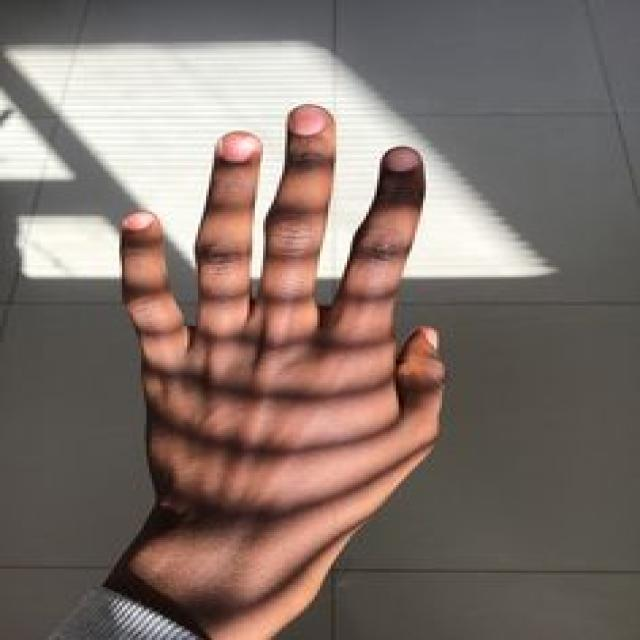Fingernail: (292, 106, 328, 135), (223, 133, 259, 161), (387, 150, 417, 172), (422, 327, 439, 354), (125, 213, 153, 229)
